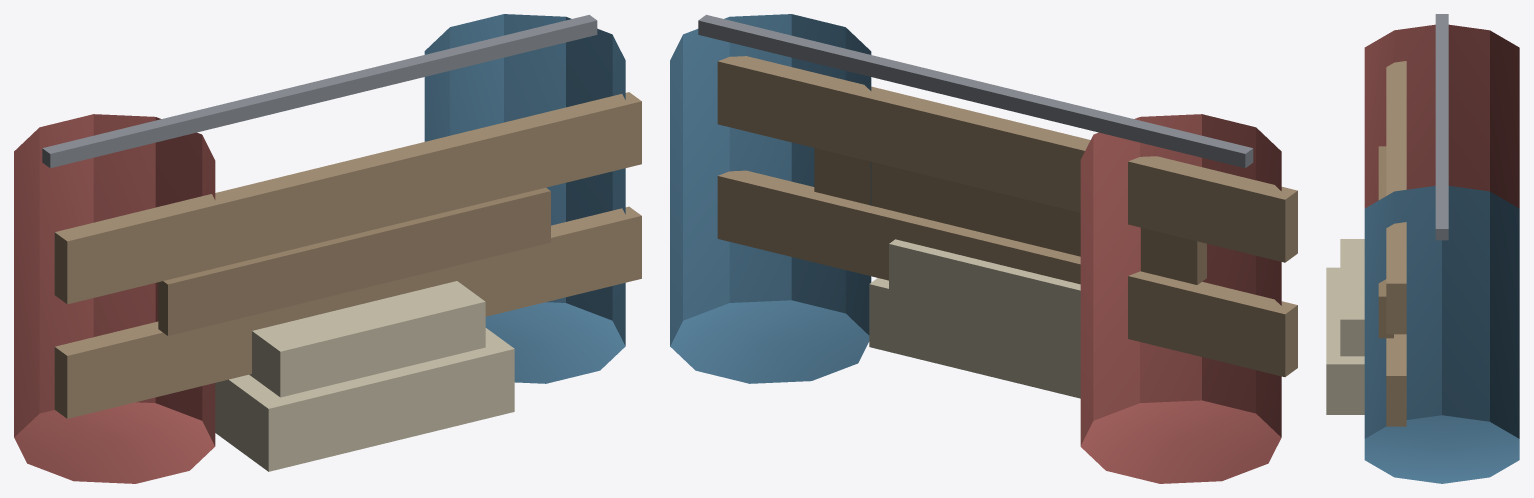
Rendered from Barricade.glb.
3 renders of one model, left to right at view 1: azimuth 30°, elevation 25°; view 2: azimuth 150°, elevation 25°; view 3: azimuth 270°, elevation 25°, orthographic. The views are drawn at different scales.
Size of the model in its own units: 2.14 by 1.08 by 0.7593.
